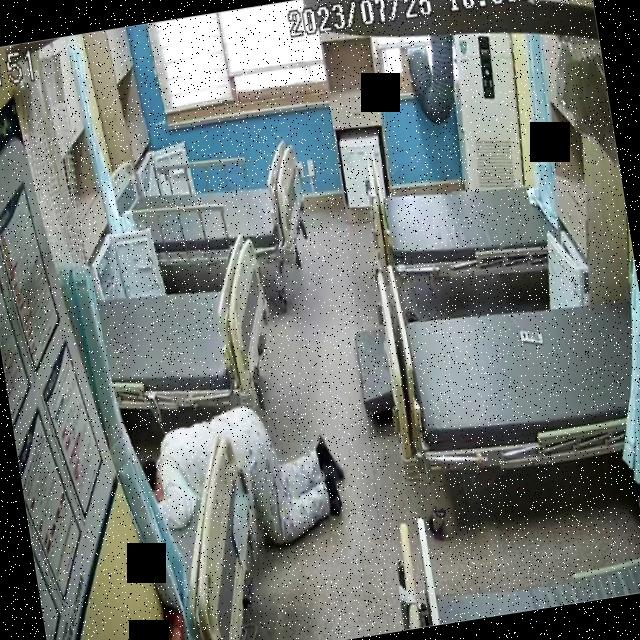bed: (397, 278, 640, 486), (90, 232, 288, 434), (108, 136, 310, 284), (366, 146, 564, 294)
fall: (140, 391, 352, 564)
patient: (140, 392, 352, 562)
